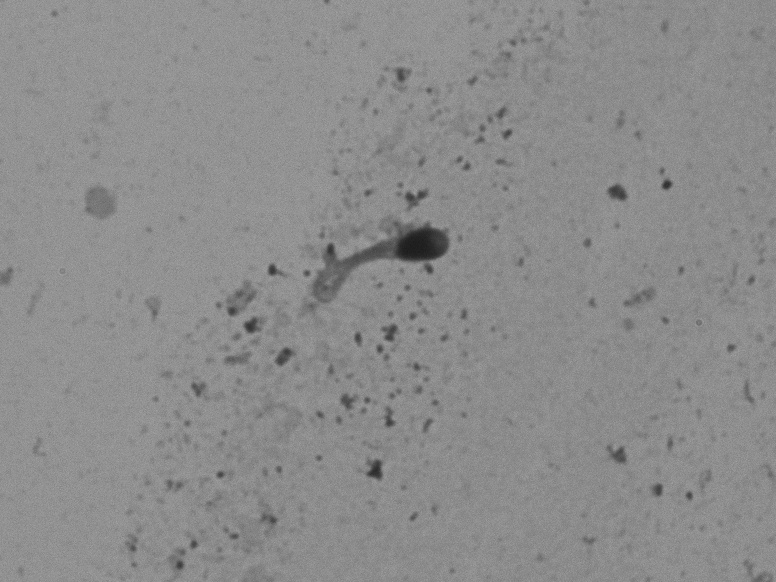Abnormal: (270, 196, 466, 328)
